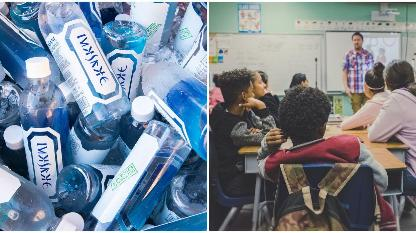Plastic Bottle: (34, 1, 136, 127), (89, 120, 191, 233), (21, 56, 75, 208), (134, 58, 208, 158), (0, 160, 78, 233)
